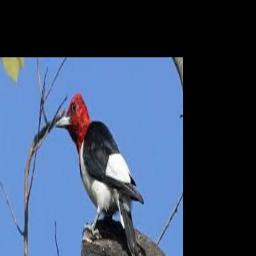Woodpecker: (55, 93, 144, 256)
